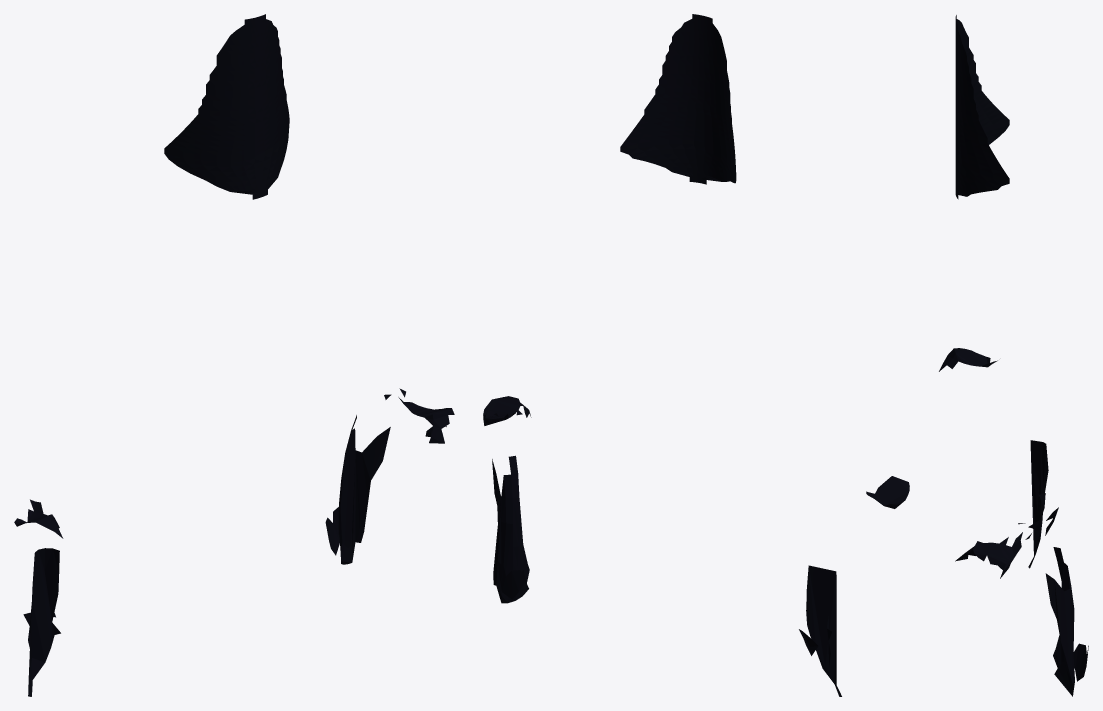
Rendered from shade_hollow.obj.
The picture shows the model from 3 angles, left to right: view 1: azimuth 30°, elevation 25°; view 2: azimuth 150°, elevation 25°; view 3: azimuth 270°, elevation 25°; orthographic projection. The views are drawn at different scales.
Visible parts, largest first — view 1: shade_hollow; view 2: shade_hollow; view 3: shade_hollow.
Boxes of the visible parts, bbox=[...] form: shade_hollow: bbox=[14, 14, 454, 696]; shade_hollow: bbox=[483, 14, 909, 696]; shade_hollow: bbox=[939, 15, 1088, 696].
Size of the model in its own units: 0.9216 by 1.31 by 0.2807.
1 material, 1 textured.
